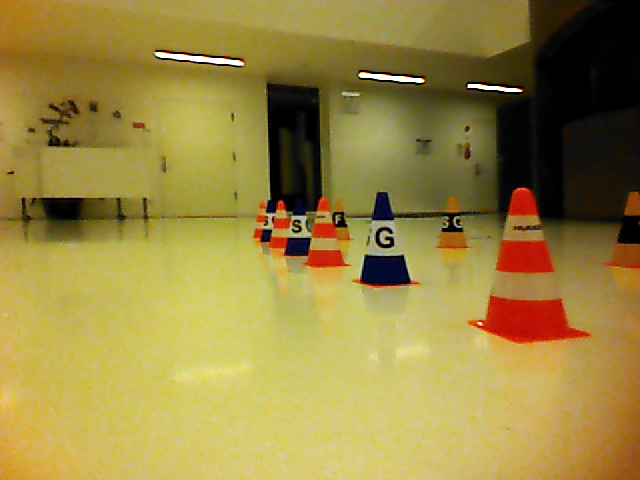bluecone: (361, 192, 410, 284), (287, 198, 310, 256)
orangeconesmall: (487, 186, 570, 334), (309, 198, 342, 265)
yellowcone: (613, 191, 640, 264), (438, 197, 466, 245), (337, 200, 352, 240)
